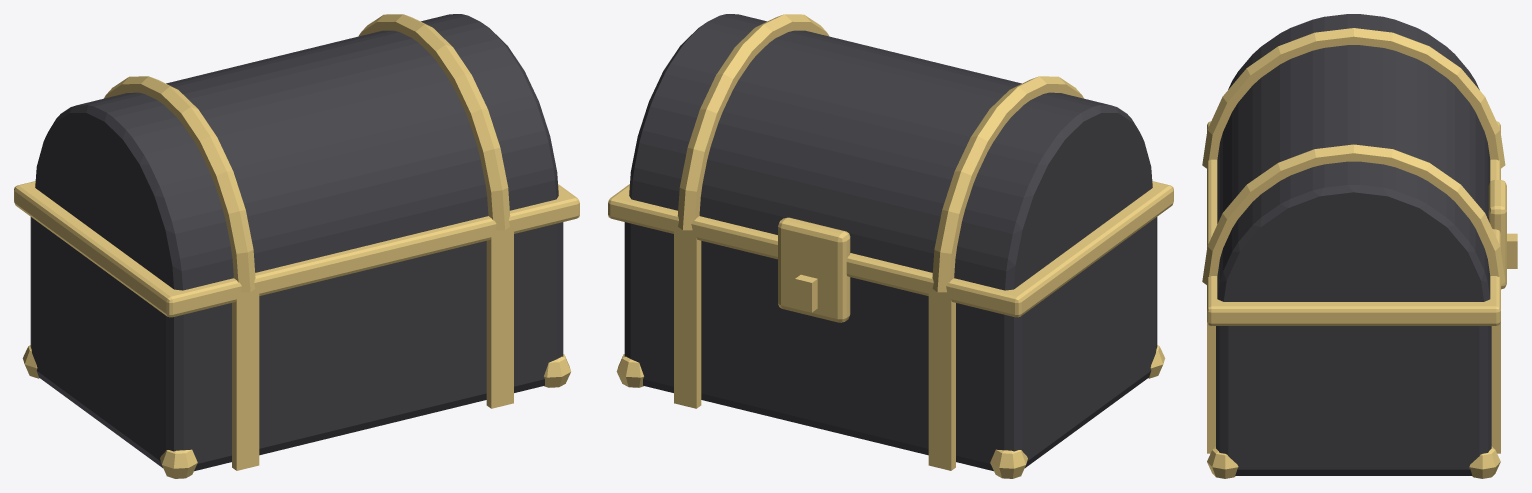
File: Chest.fbx
3 renders of one model, left to right at view 1: azimuth 30°, elevation 25°; view 2: azimuth 150°, elevation 25°; view 3: azimuth 270°, elevation 25°, orthographic. The views are drawn at different scales.
Parts seen in each view (by area): view 1: Body.001, Trim; view 2: Body.001, Trim; view 3: Body.001, Trim.
Boxes of the visible parts, box(x1,y1,x2,y2) form: Body.001: box(30, 14, 563, 471); Trim: box(14, 14, 579, 478); Body.001: box(624, 14, 1157, 471); Trim: box(608, 14, 1173, 478); Body.001: box(1216, 14, 1491, 475); Trim: box(1202, 28, 1517, 478).
Bounding box in the file's own units: 1.46 × 1.11 × 1.03.
